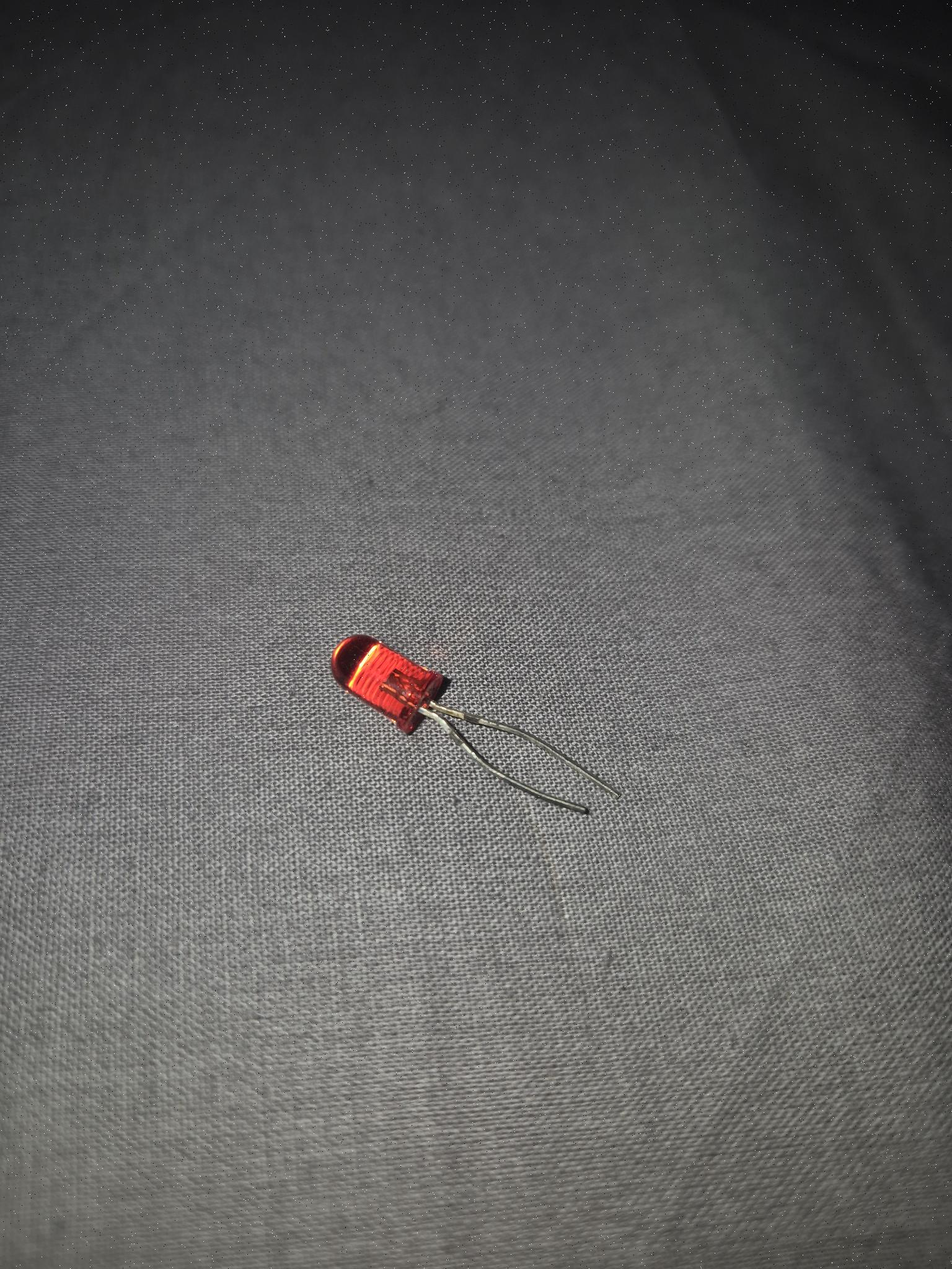led-diode: (329, 634, 453, 734)
